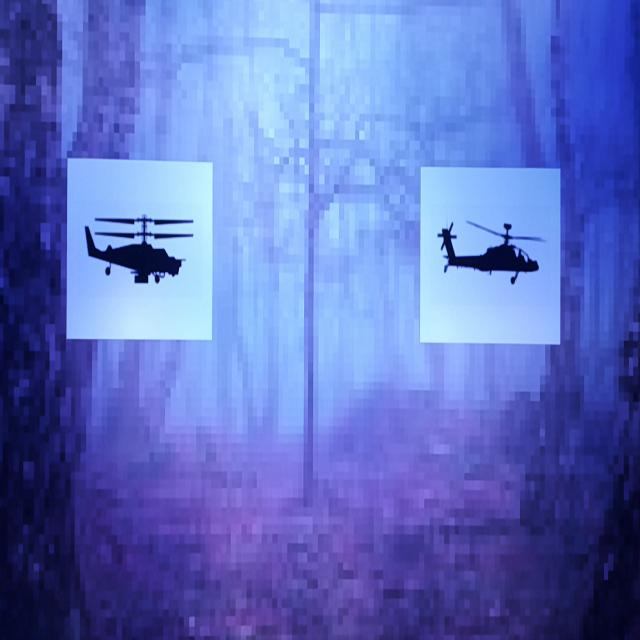Apache friendly: (438, 221, 544, 283)
Ka-52 Enemy: (85, 216, 192, 283)
